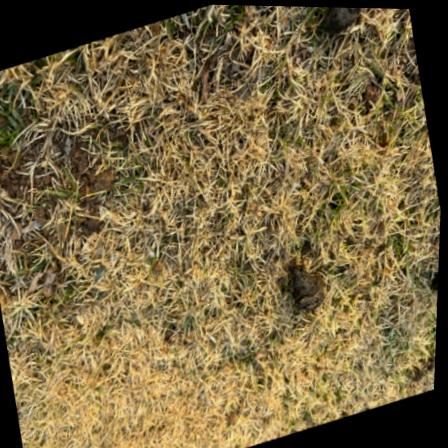dog-poop: (282, 259, 335, 316)
